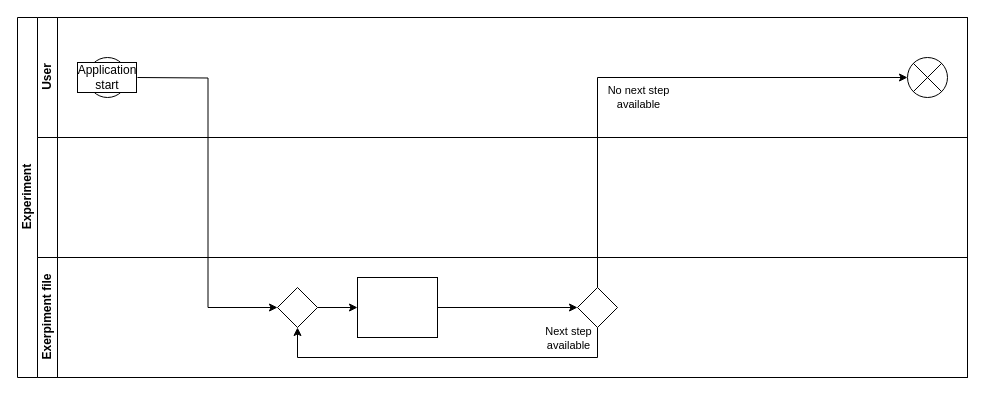
This 985x395 diagram has some shape labels left out. The shapes that lost their labels are listed below. From the top down, each one's centre as x and y in pixels, then its label:
At point 502,197: "Participant file".
At point 397,307: "Experiment step".
